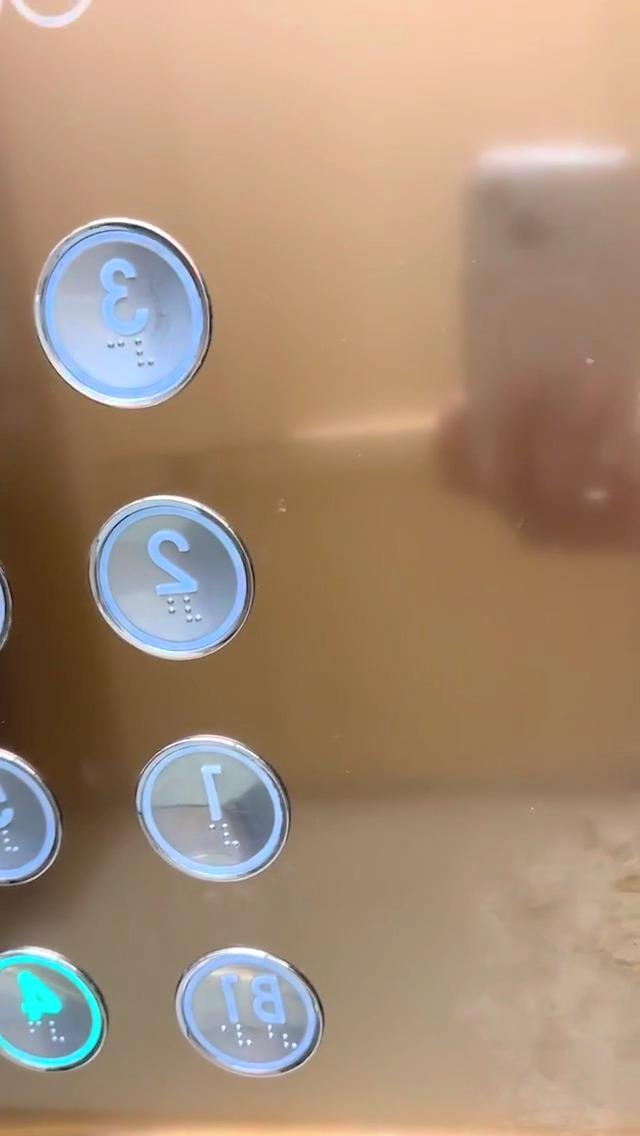button: (10, 216, 229, 413), (134, 723, 289, 897), (103, 506, 249, 664), (173, 950, 324, 1086), (0, 951, 106, 1103)
